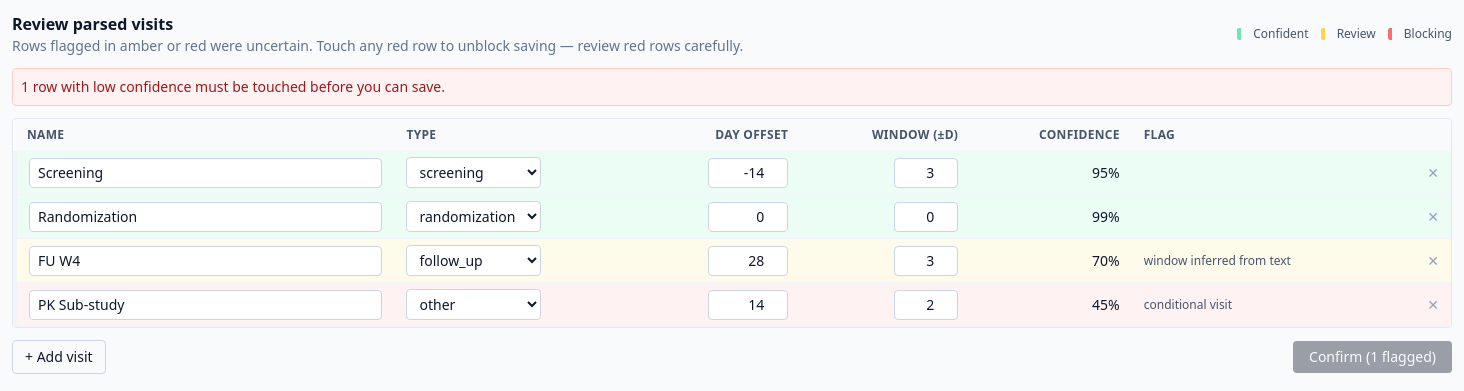
Scenario: SoaReviewTable › unblocks Confirm once every red row has been touched
The width and height of the screenshot is (1464, 391).
# "Touch" the row by editing its name.
Replace the text in the field with test id "soa-row-3-name" with "PK Visit (confirmed)": point(206, 304) [29,290,382,320]
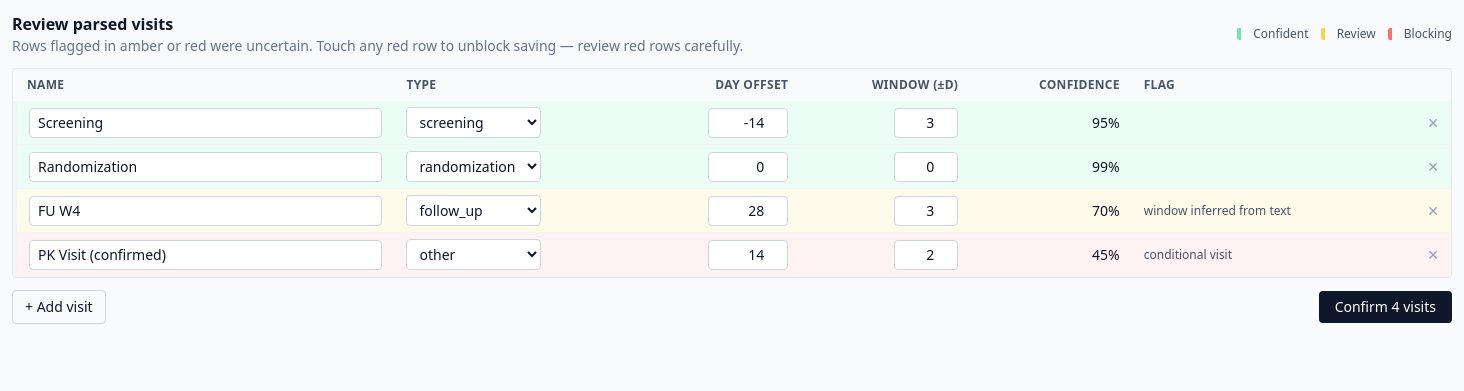
Now the button with test id "soa-confirm-button" is enabled, box [1319,291,1452,323]
Now the text with test id "soa-review-blocked" is gone
